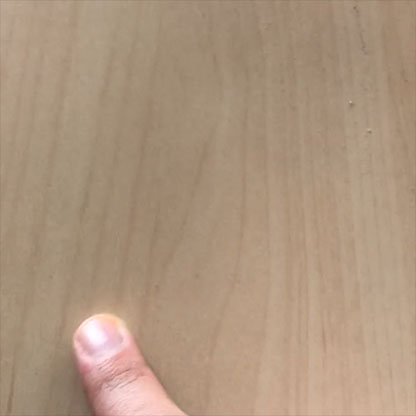fingertip: (55, 292, 145, 375)
